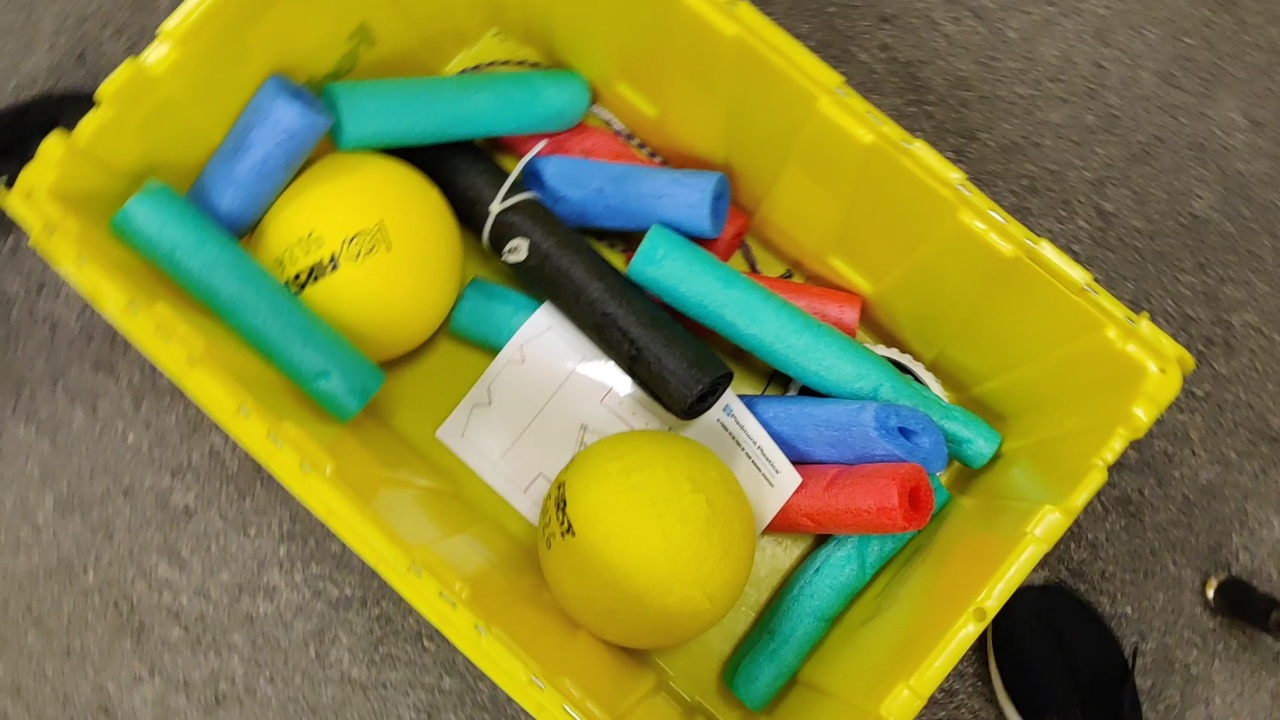Ball: (535, 431, 753, 653), (239, 151, 466, 361)
